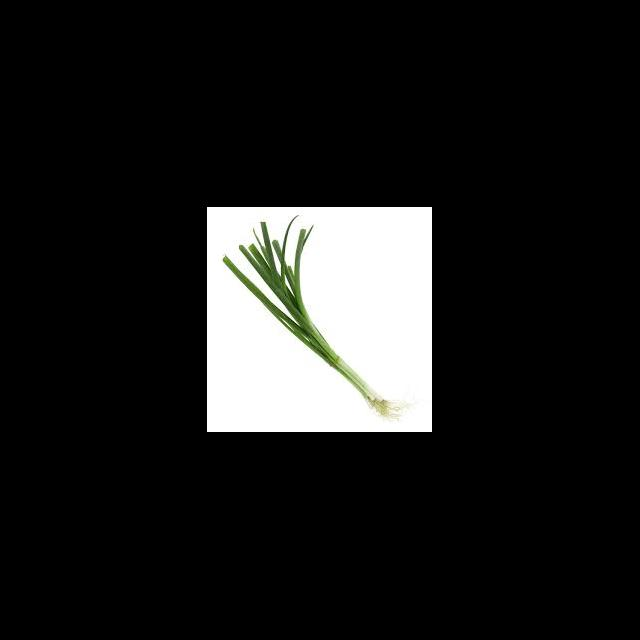green_onion: (219, 212, 401, 419)
